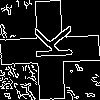K: (25, 25, 73, 61)
